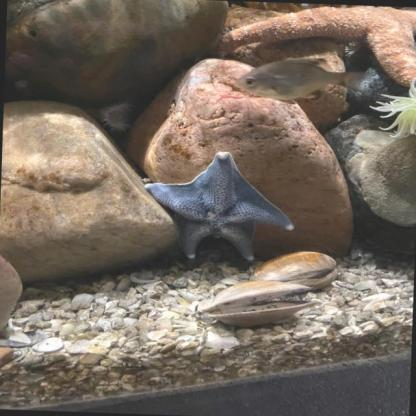fish: (234, 56, 356, 103)
starfish: (147, 152, 295, 264)
